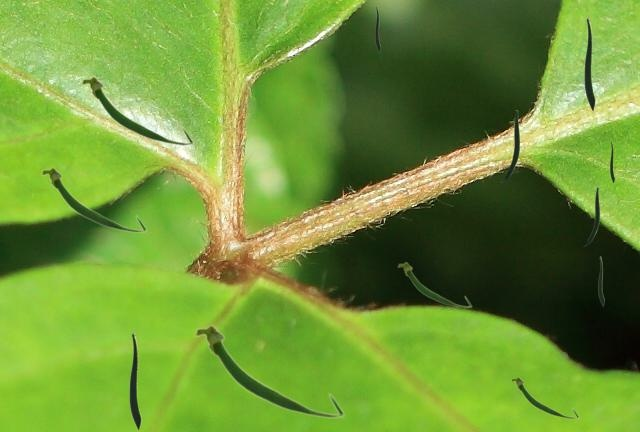french_bean: (193, 324, 344, 418), (80, 75, 193, 145), (40, 166, 146, 232), (397, 261, 471, 307), (510, 376, 578, 418), (501, 110, 518, 181), (129, 332, 140, 429), (584, 17, 594, 110), (584, 187, 598, 245), (598, 256, 603, 305), (375, 6, 379, 51), (610, 141, 613, 182)
